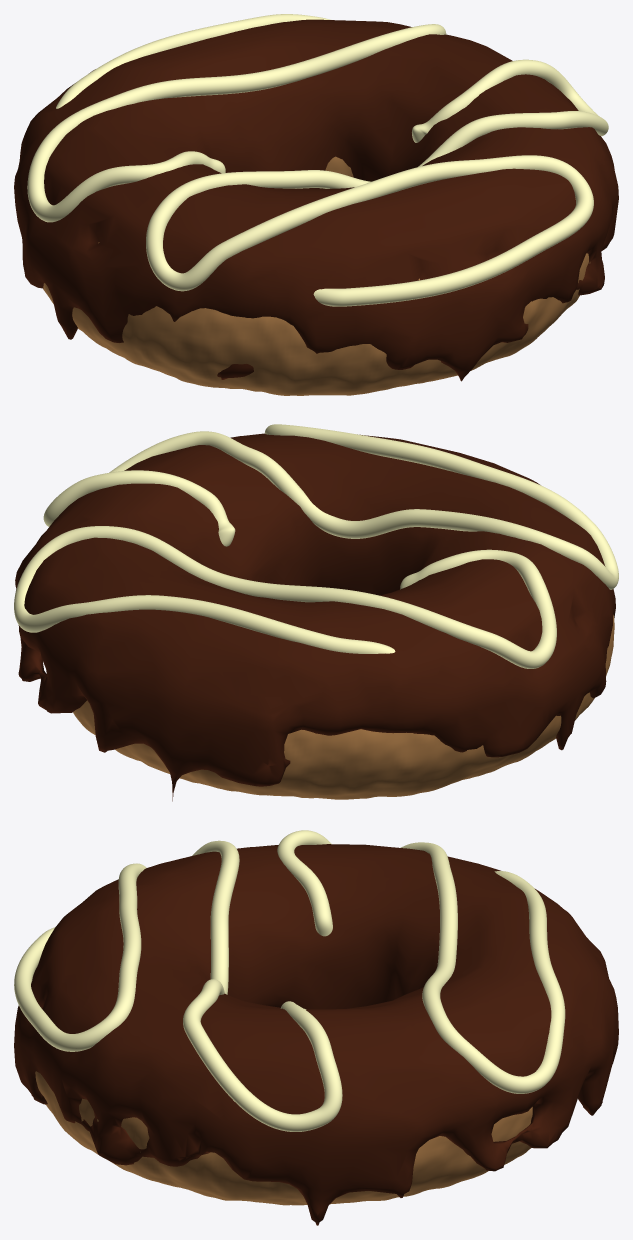
File: donut2.fbx
The picture shows the model from 3 angles, top to bottom: view 1: azimuth 30°, elevation 25°; view 2: azimuth 150°, elevation 25°; view 3: azimuth 270°, elevation 25°; orthographic projection.
Visible parts, largest first — view 1: Cube, BezierCurve, Torus; view 2: Cube, BezierCurve, Torus; view 3: Cube, BezierCurve, Torus.
Boxes of the visible parts, box(x1,y1,x2,y2) form: Cube: box(14, 19, 618, 381); BezierCurve: box(27, 14, 608, 306); Torus: box(43, 156, 590, 395); Cube: box(15, 433, 615, 801); BezierCurve: box(14, 424, 618, 668); Torus: box(73, 614, 614, 799); Cube: box(14, 844, 618, 1225); BezierCurve: box(14, 830, 565, 1131); Torus: box(35, 1071, 532, 1205).
Bounding box in the file's own units: 309 × 112 × 304.
